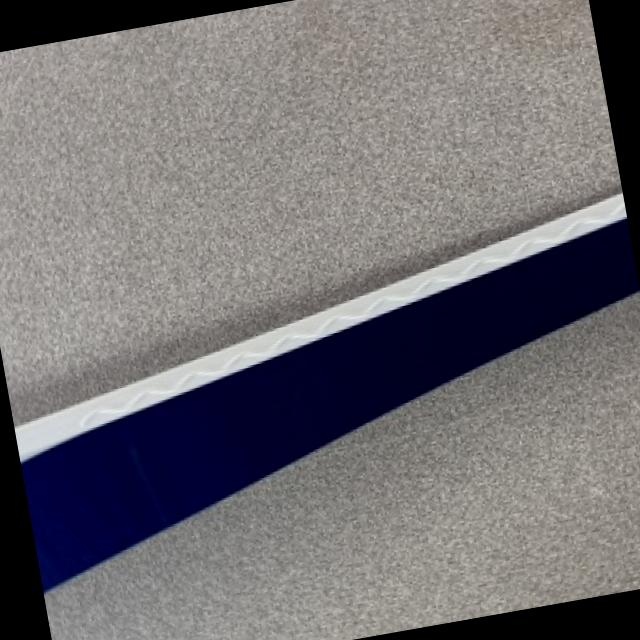healthy: (0, 0, 621, 424), (45, 290, 640, 640)
